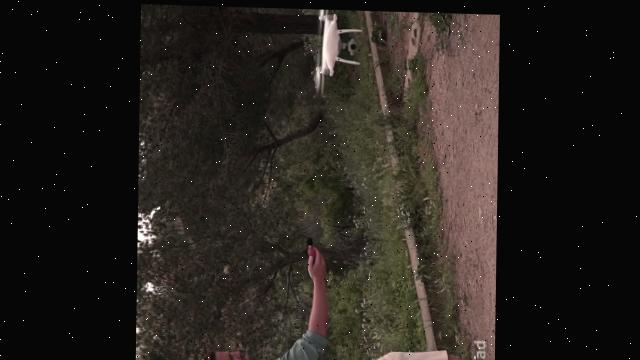drone: (309, 7, 359, 96)
